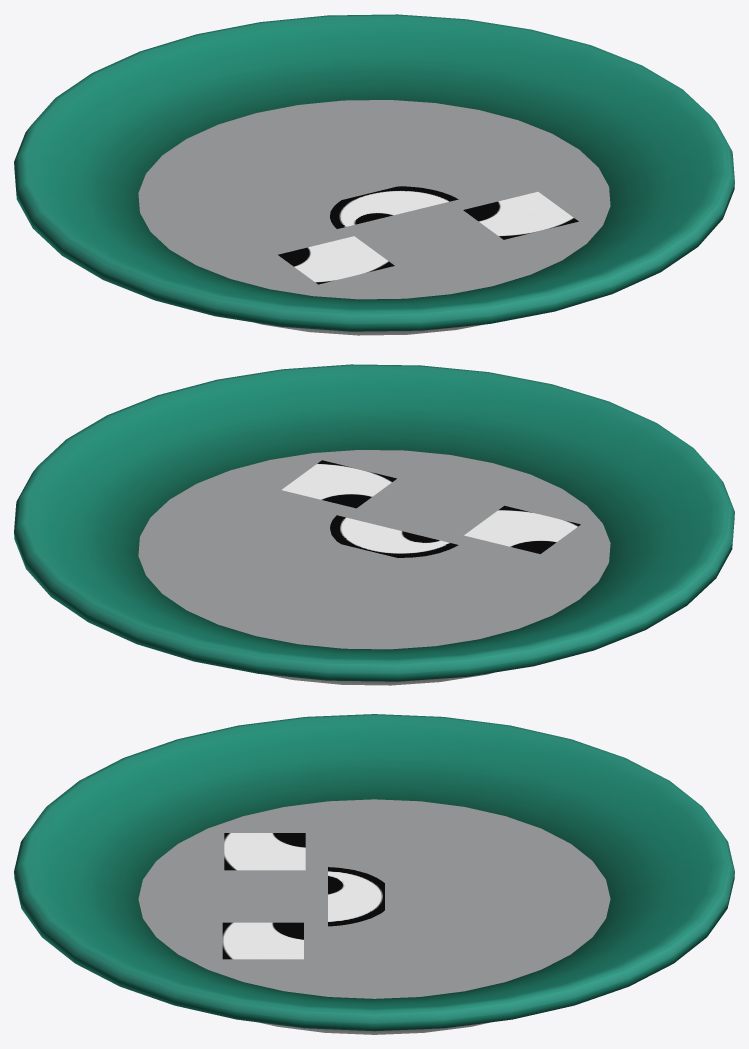
The model's file is plate_smile.fbx.
The picture shows the model from 3 angles, top to bottom: view 1: azimuth 30°, elevation 25°; view 2: azimuth 150°, elevation 25°; view 3: azimuth 270°, elevation 25°; orthographic projection.
Parts seen in each view (by area): view 1: plate_smile; view 2: plate_smile; view 3: plate_smile.
Part boxes in pixels (left/top/right/bottom): plate_smile: left=14, top=14, right=734, bottom=335; plate_smile: left=14, top=364, right=734, bottom=685; plate_smile: left=14, top=714, right=734, bottom=1034.
Size of the model in its own units: 166 by 166 by 16.38.
